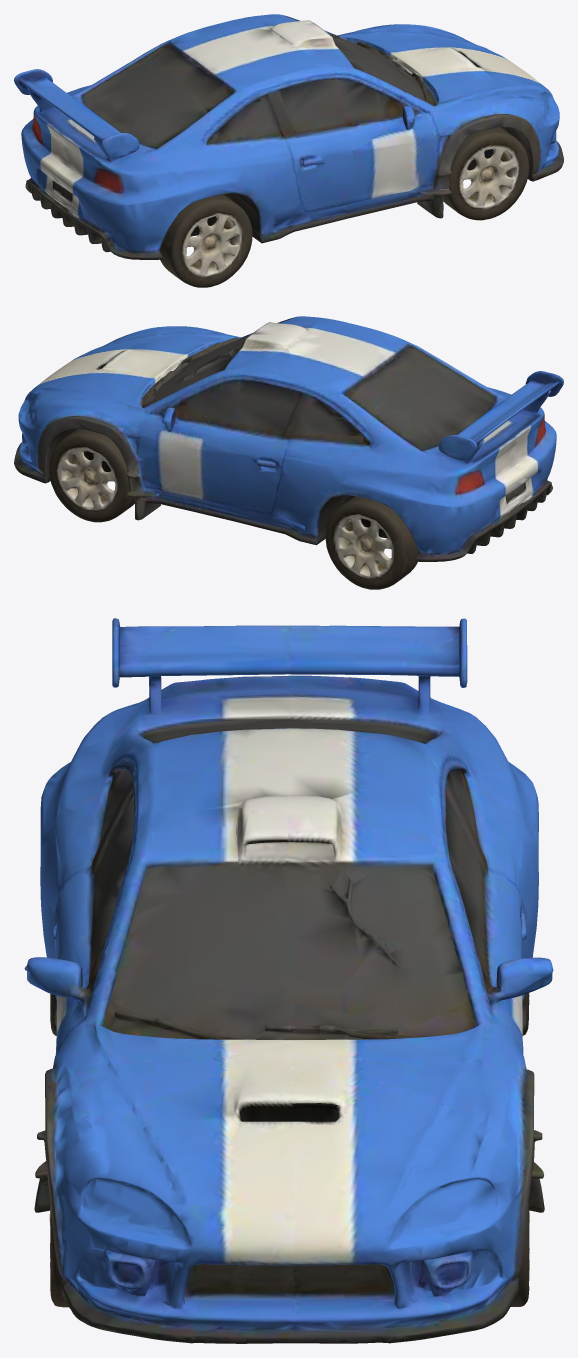
File: car.glb
3 views of the same model, one above another, from view 1: azimuth 30°, elevation 25°; view 2: azimuth 150°, elevation 25°; view 3: azimuth 270°, elevation 25° (orthographic). The views are drawn at different scales.
Parts seen in each view (by area): view 1: car-0; view 2: car-0; view 3: car-0.
Part boxes in pixels (x1,y1,x2,y2): car-0: [14, 14, 563, 287]; car-0: [14, 316, 563, 589]; car-0: [24, 618, 553, 1343].
Size of the model in its own units: 0.9999 by 0.3607 by 0.4801.
Materials: 1 (1 with a texture image).
